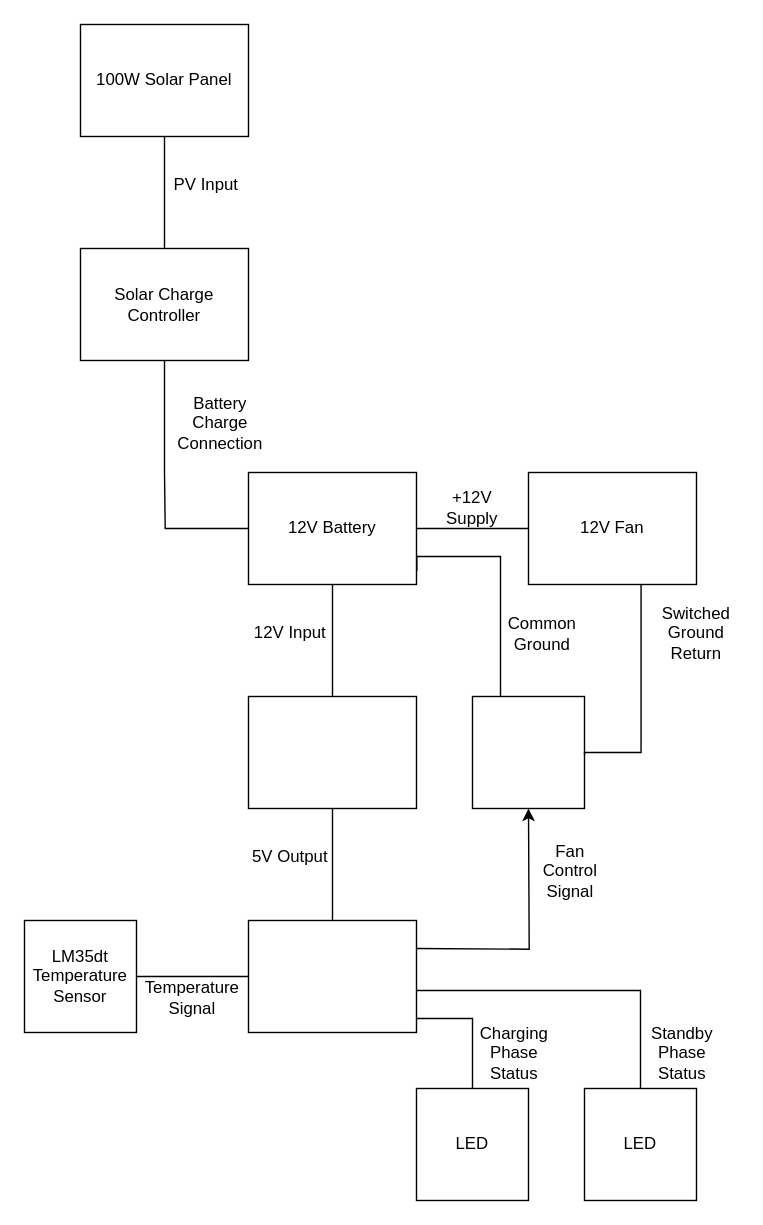
The diagram is 763 pixels wide and 1225 high, and some of its shapes have lost their labels. The shapes that lost their labels are listed below. From the top down, each one's centre as x and y in pixels, then its label:
point 331,751: Buck Converter 12VDC to 5VDC
point 527,751: IRLZ44N N-Channel MOSFET
point 331,975: Arduino Nano
